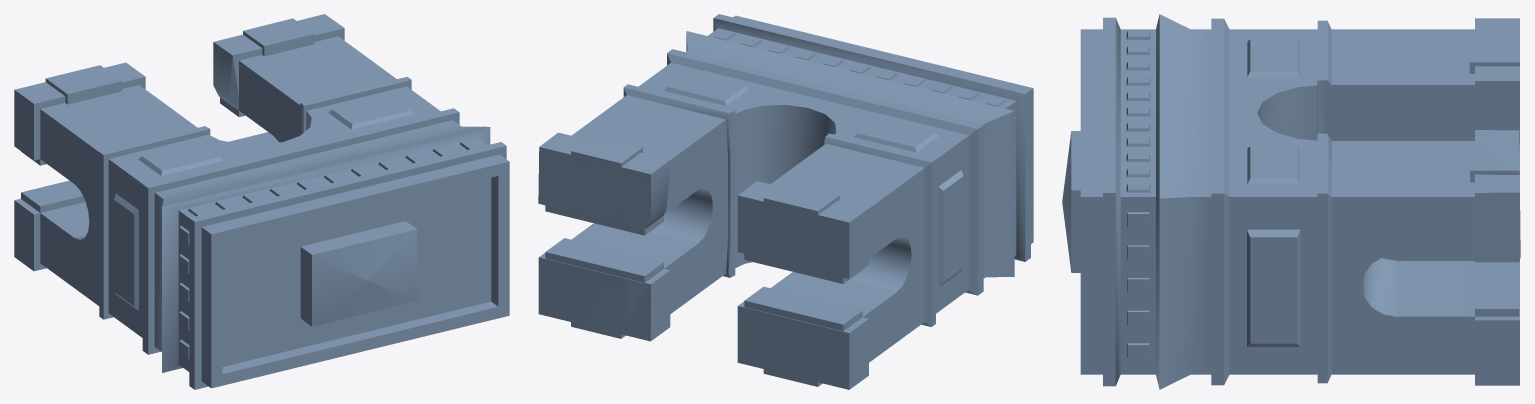
Rendered from arcTriompheBlue.fbx.
The picture shows the model from 3 angles, left to right: view 1: azimuth 30°, elevation 25°; view 2: azimuth 150°, elevation 25°; view 3: azimuth 270°, elevation 25°; orthographic projection. The views are drawn at different scales.
Visible parts, largest first — view 1: Cube; view 2: Cube; view 3: Cube.
Boxes of the visible parts, box(x1,y1,x2,y2) form: Cube: box(14, 14, 509, 389); Cube: box(538, 14, 1033, 389); Cube: box(1062, 14, 1520, 389).
Size of the model in its own units: 2914 by 1491 by 3059.
